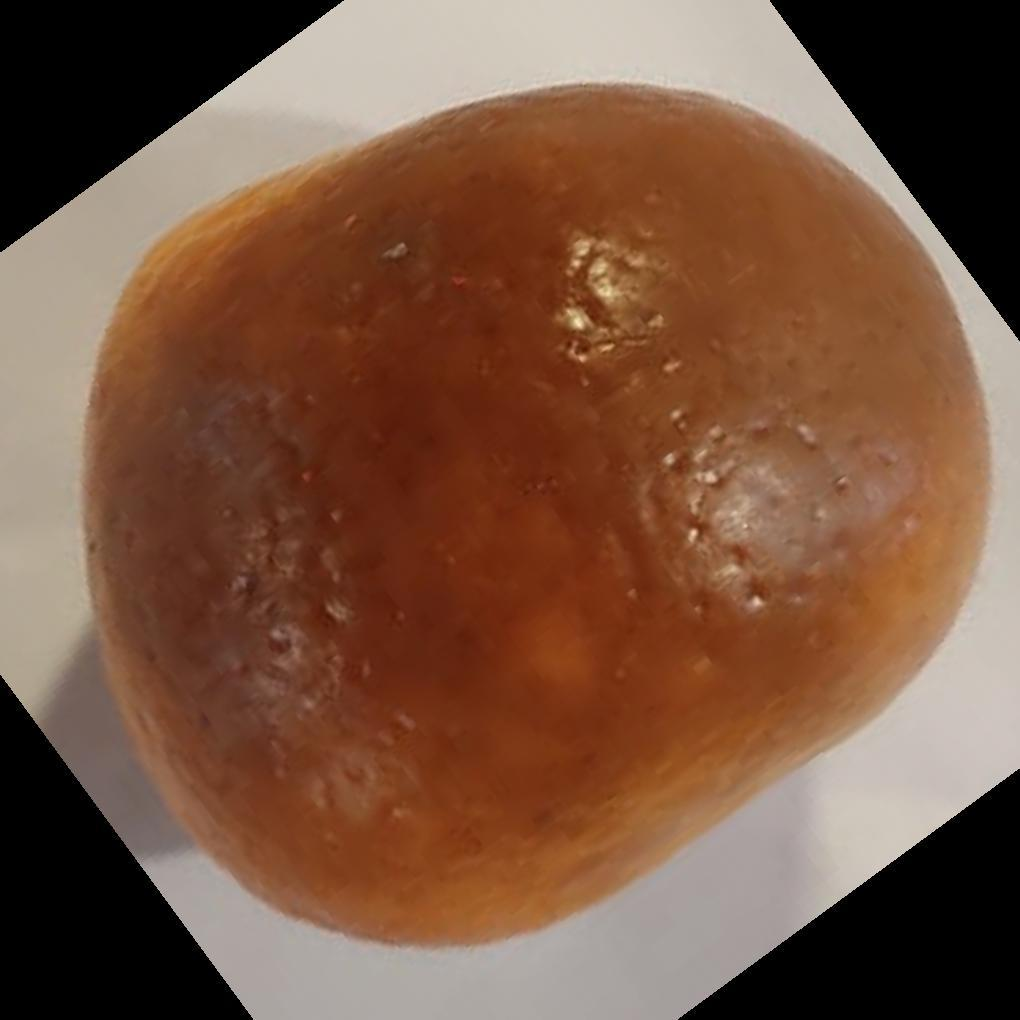FreshOrange: (79, 83, 992, 953)
